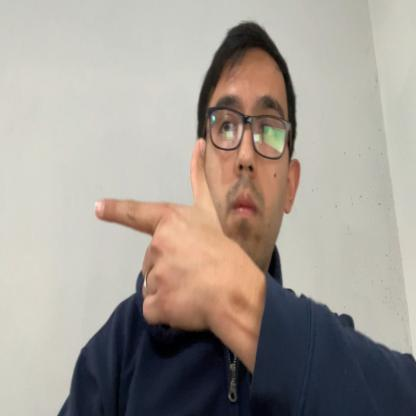G: (94, 138, 220, 331)
